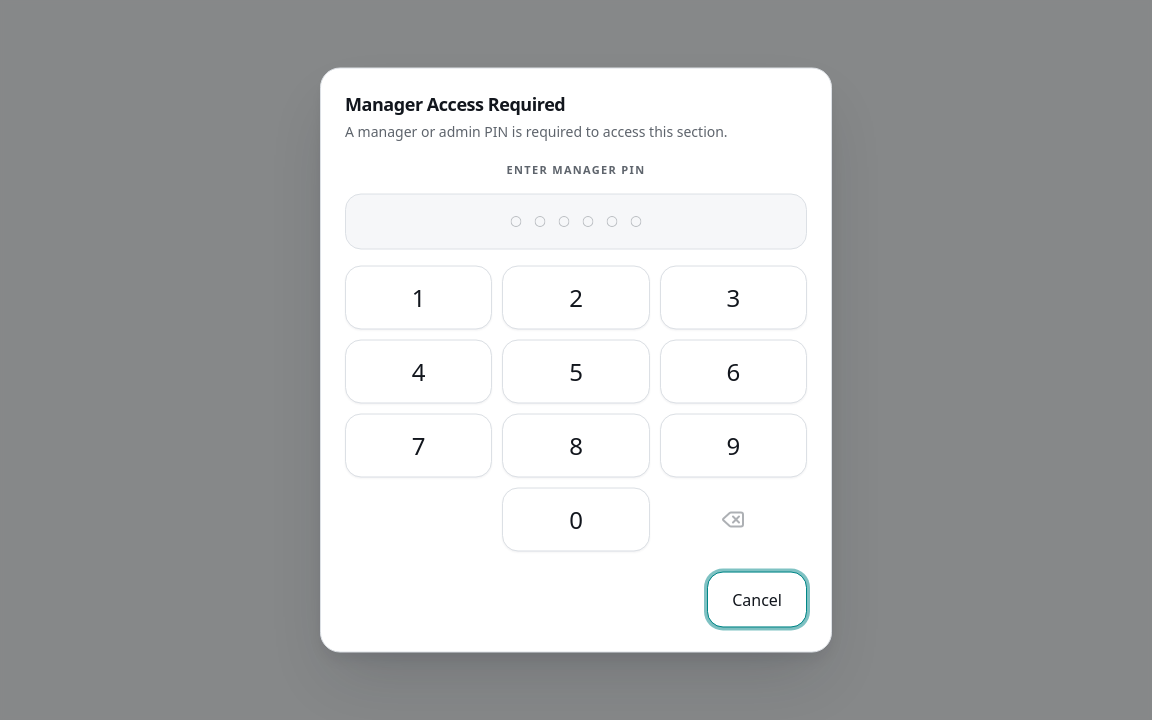
Test: ManagerPinDialog › entering cashier PIN does not grant access — shows error
The width and height of the screenshot is (1152, 720).
Click the button named "Key 1". click: (419, 298)
box: [345, 266, 492, 330]
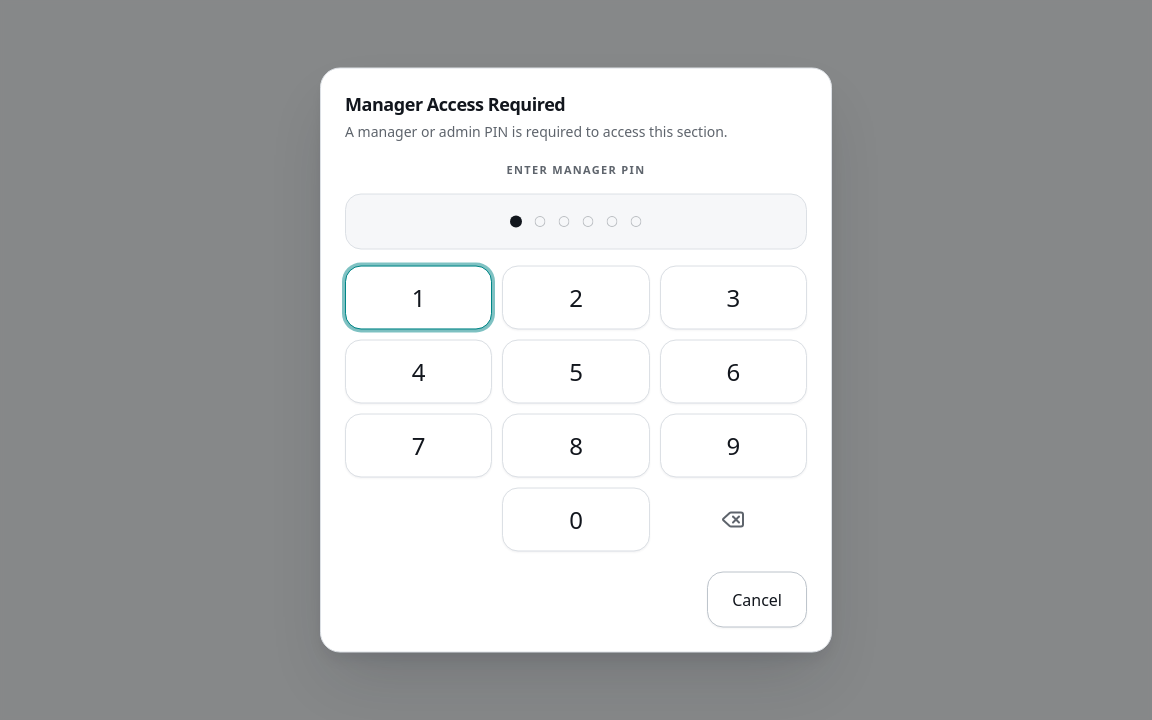
Click the button "2". click: (576, 298)
box: [502, 266, 650, 330]
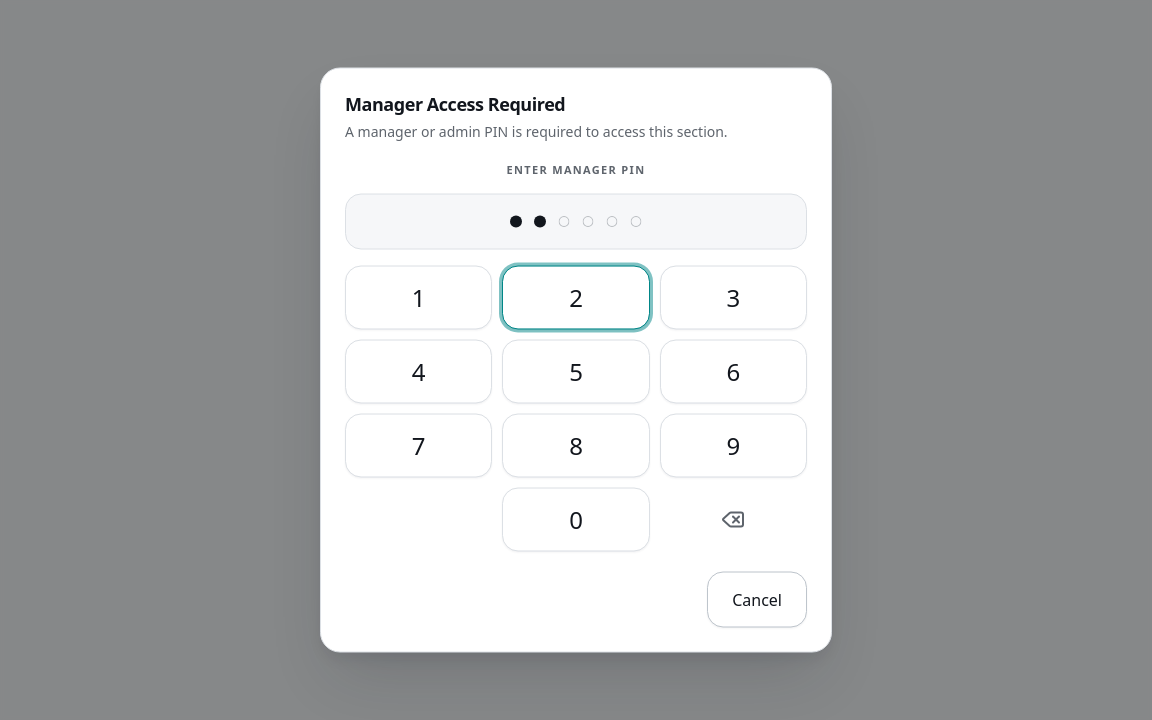
Click the button "3". click: (733, 298)
box: [660, 266, 807, 330]
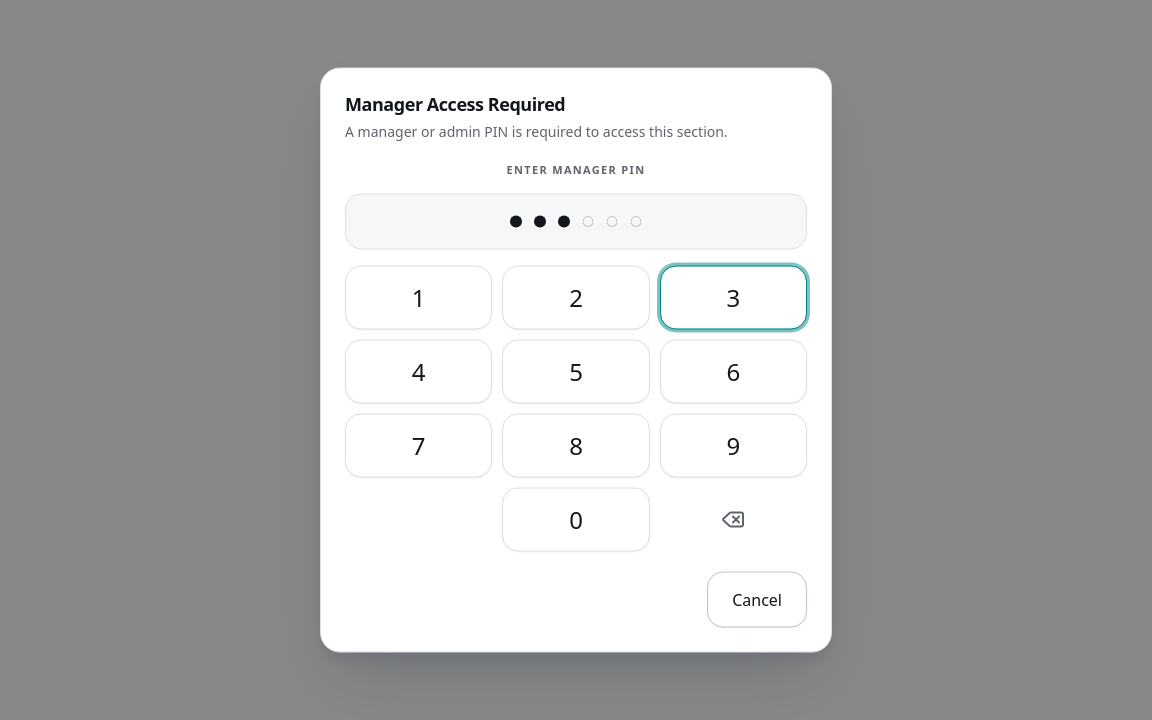
Click the button "4". click: (419, 372)
box: [345, 340, 492, 404]
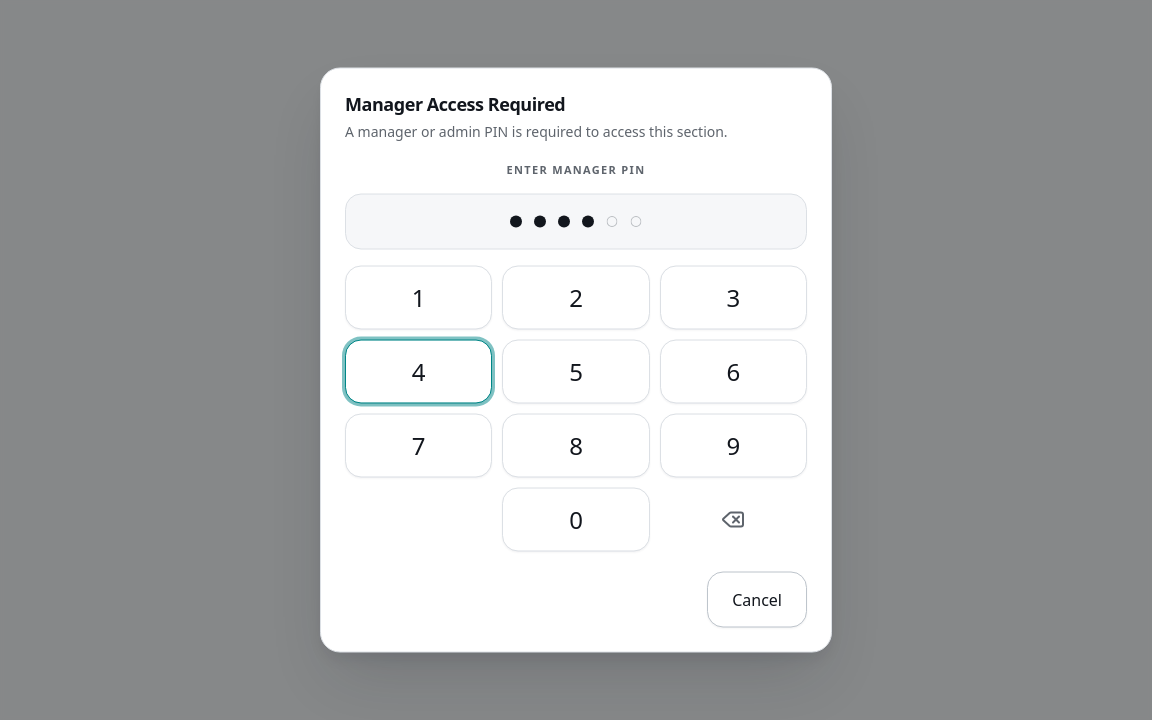
Click the button "5". click: (576, 372)
box: [502, 340, 650, 404]
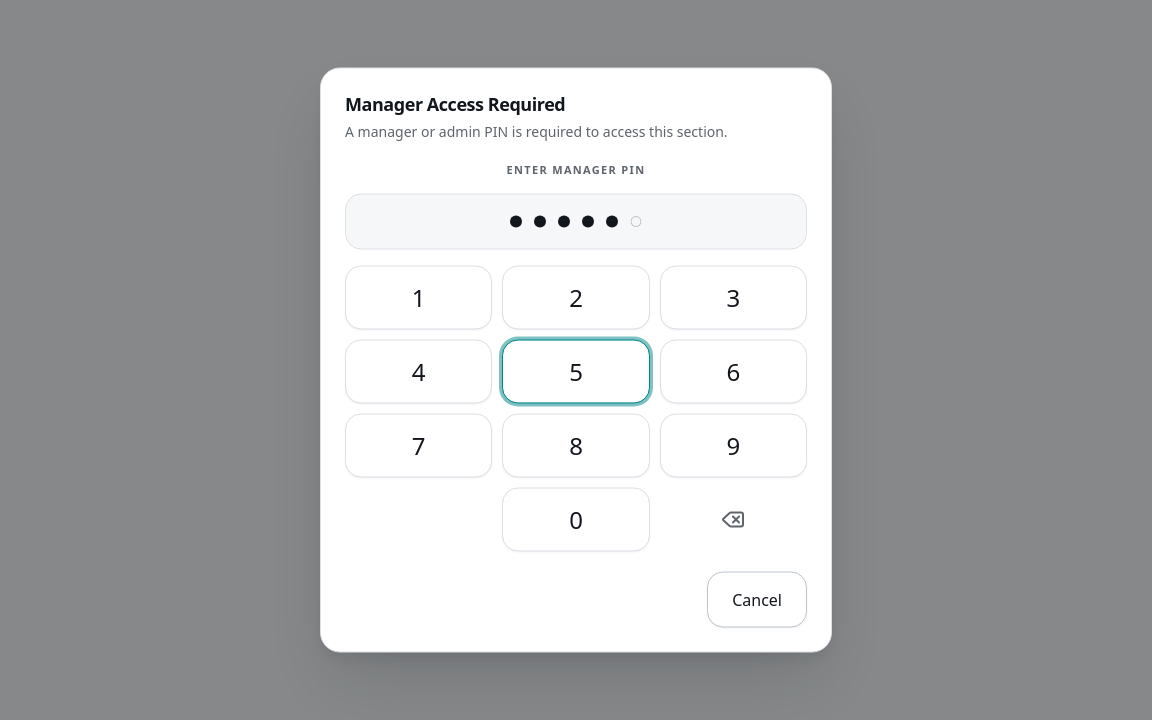
Click the button "6". click: (733, 372)
box: [660, 340, 807, 404]
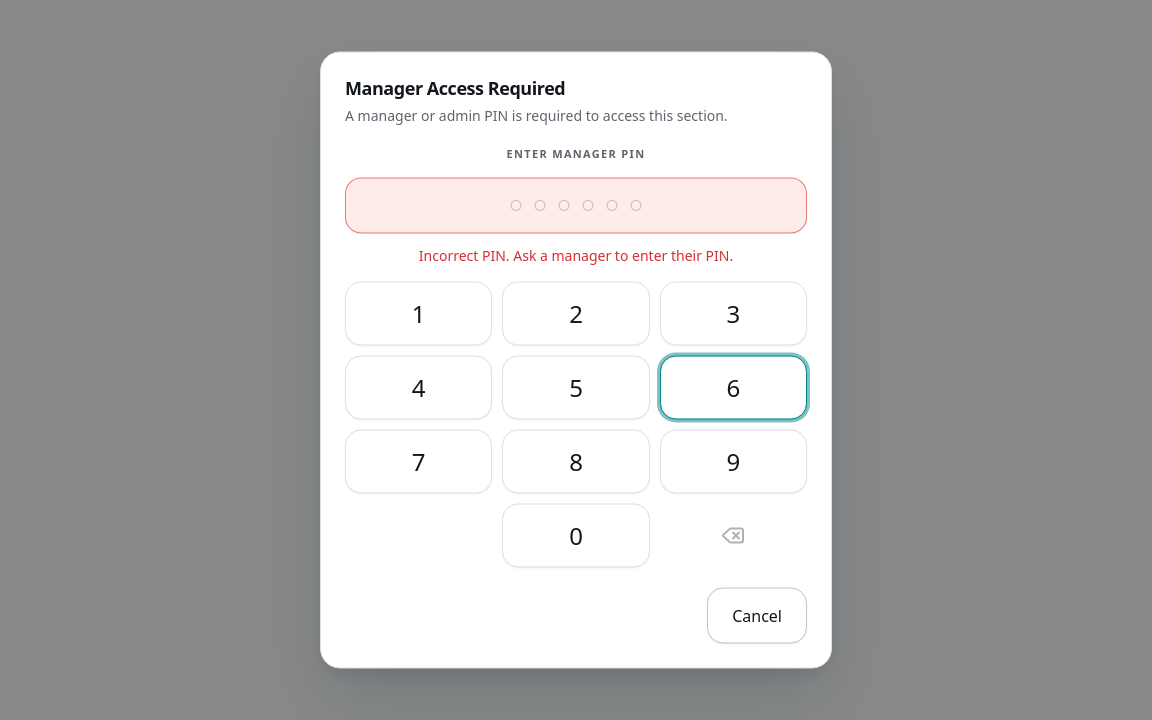
Now the text "Incorrect PIN. Ask a manager to enter their PIN." is shown, box [419, 246, 733, 264]
